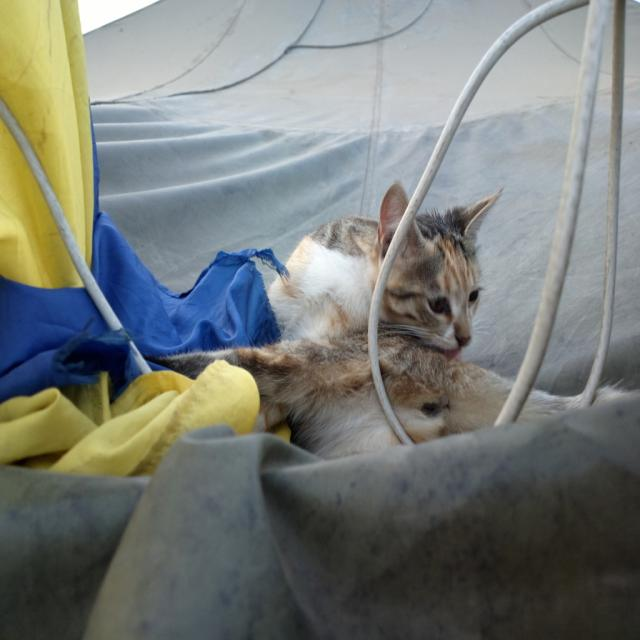Cat: (264, 178, 500, 458)
